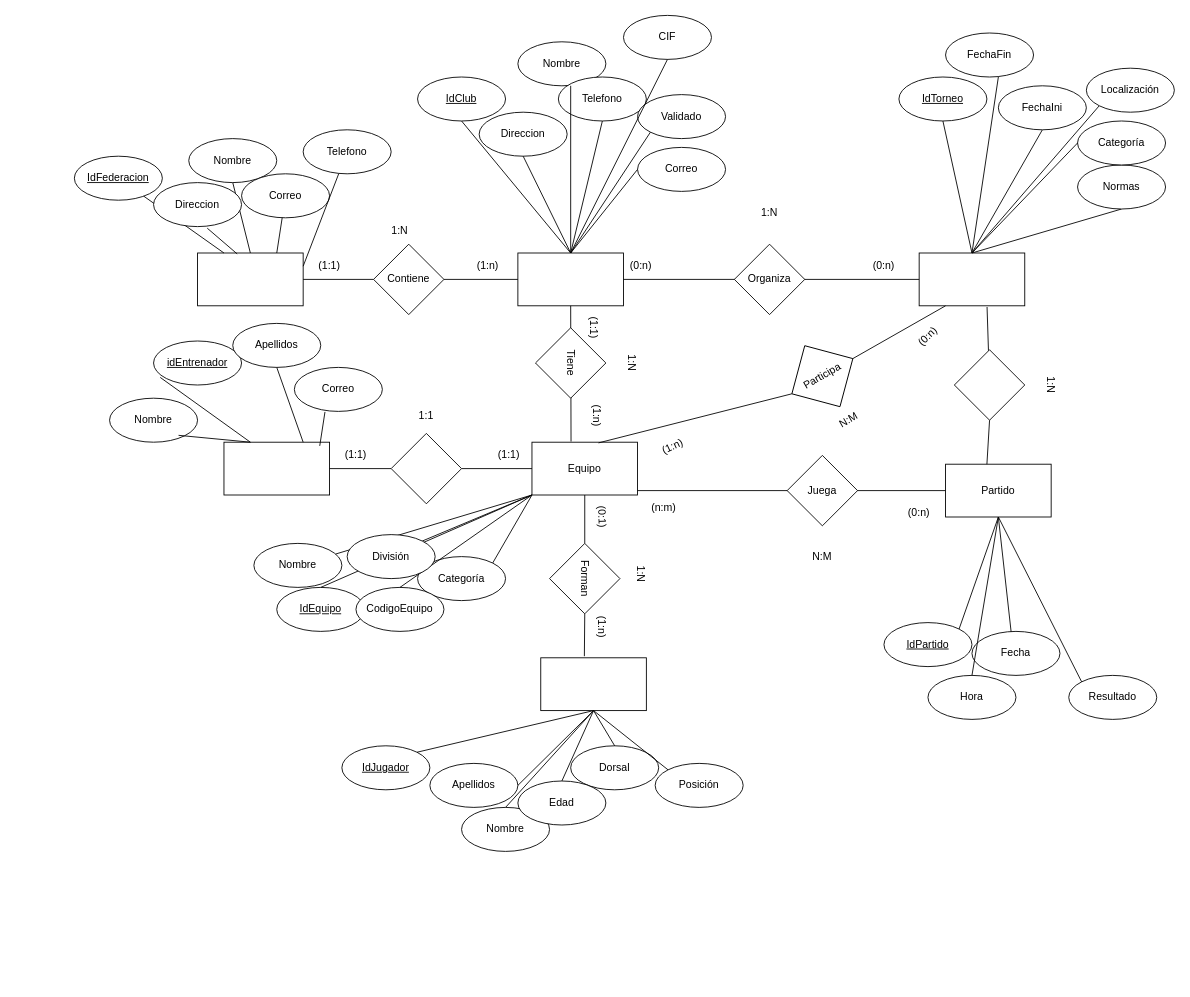
This 1190x997 diagram has some shape labels left out. The centre of each missing label's shape, as x and y in pixels:
"Club" belongs at (x=570, y=279).
"Dirige" belongs at (x=426, y=468).
"Entrenador" belongs at (x=276, y=468).
"Federación" belongs at (x=250, y=279).
"Formado" belongs at (x=989, y=384).
"Jugador" belongs at (x=593, y=684).
"Torneo" belongs at (x=971, y=279).
